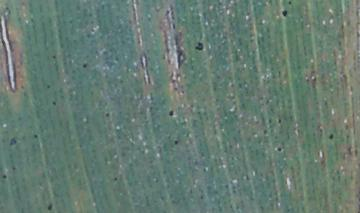tarspot: (194, 41, 204, 52), (280, 8, 289, 20), (46, 200, 55, 211), (8, 135, 16, 147), (346, 143, 352, 156), (275, 145, 283, 154), (167, 109, 175, 118), (261, 128, 269, 136), (104, 110, 111, 119), (327, 132, 334, 140), (172, 138, 179, 146), (32, 132, 39, 140), (50, 100, 57, 107), (81, 62, 88, 69), (276, 117, 283, 124), (112, 175, 118, 183), (1, 172, 7, 180), (45, 83, 52, 89), (51, 53, 57, 60), (18, 84, 25, 90), (287, 1, 294, 5)
